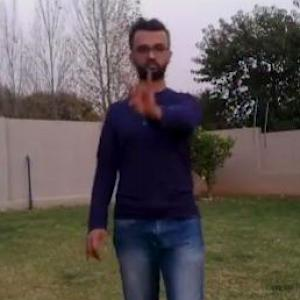takeoff-hand: (127, 68, 163, 120)
